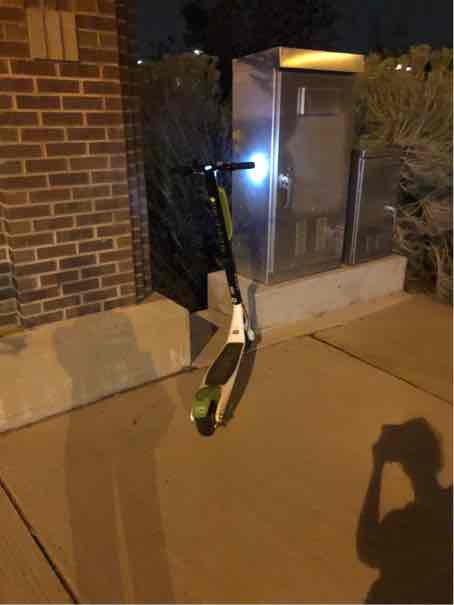scooter: (162, 149, 278, 444)
